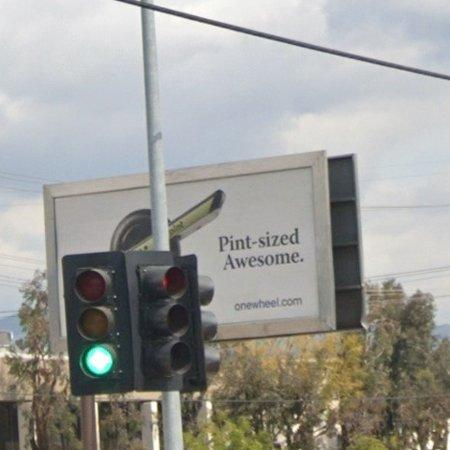traffic lights: (63, 252, 134, 396)
